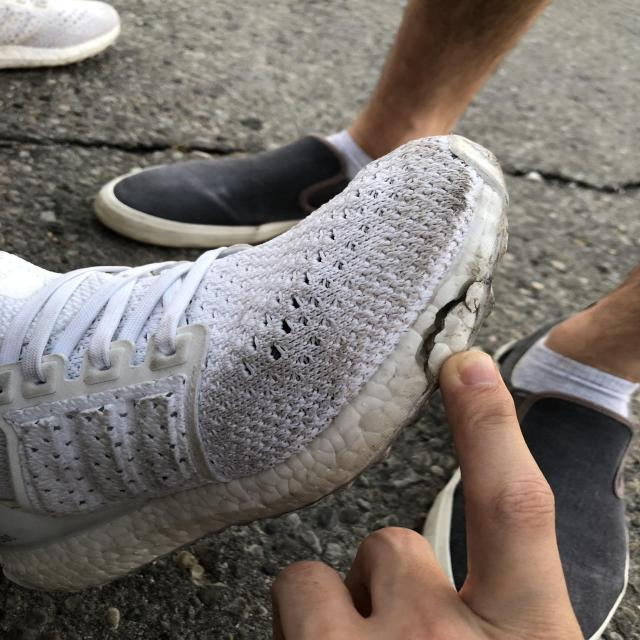shoe: (0, 123, 521, 633)
